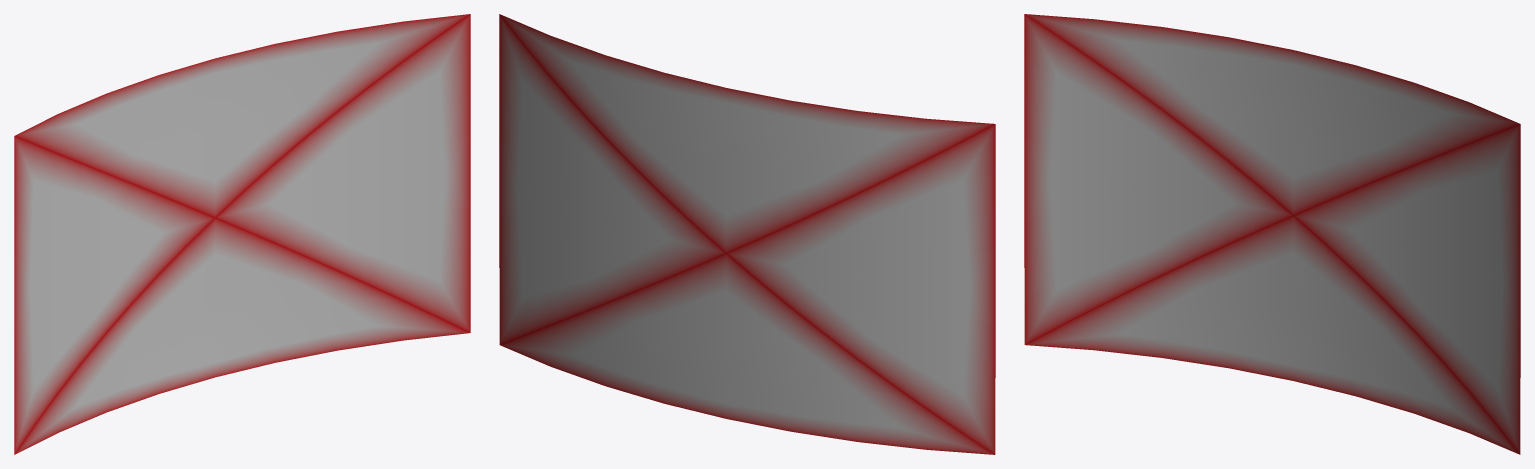
File: curved.glb
3 renders of one model, left to right at view 1: azimuth 30°, elevation 25°; view 2: azimuth 150°, elevation 25°; view 3: azimuth 330°, elevation 25°, orthographic. The views are drawn at different scales.
Visible parts, largest first — view 1: Plane; view 2: Plane; view 3: Plane.
Part boxes in pixels (x1,y1,x2,y2): Plane: (14, 14, 470, 454); Plane: (499, 14, 995, 454); Plane: (1024, 14, 1520, 454).
Bounding box in the file's own units: 0.9743 × 0.6359 × 0.1069.
